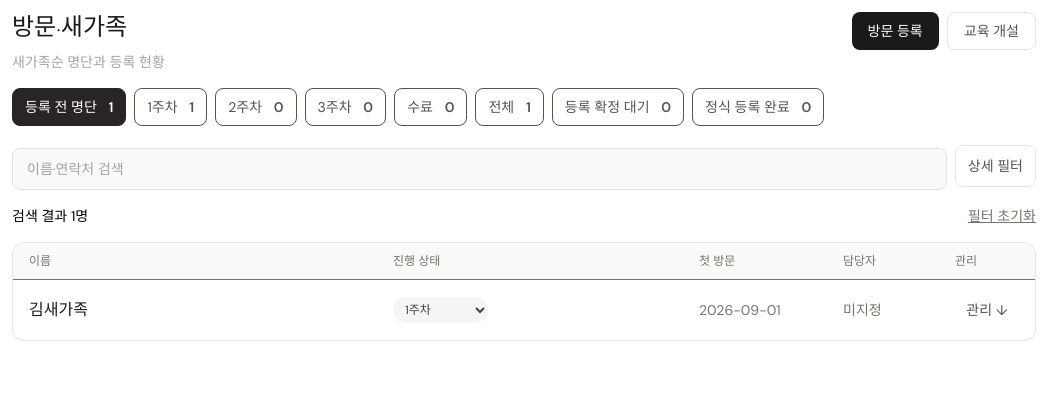
Test: 1주차에서 교육 미참여를 선택하여 이전 단계로 되돌린다
Select "교육 미참여" in the dropdown named "김새가족 진행 상태" at (440, 310), box [393,297,488,323]
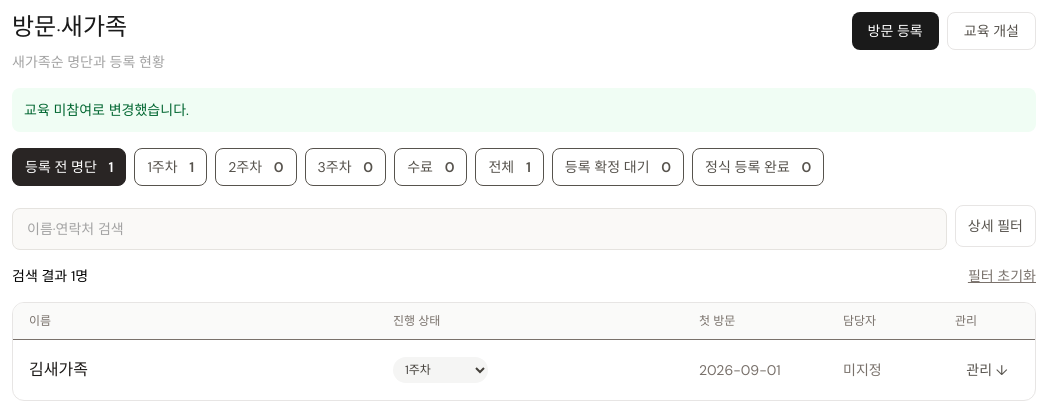
Result: the message reads "교육 미참여로 변경했습니다." at [24,101,189,119]
